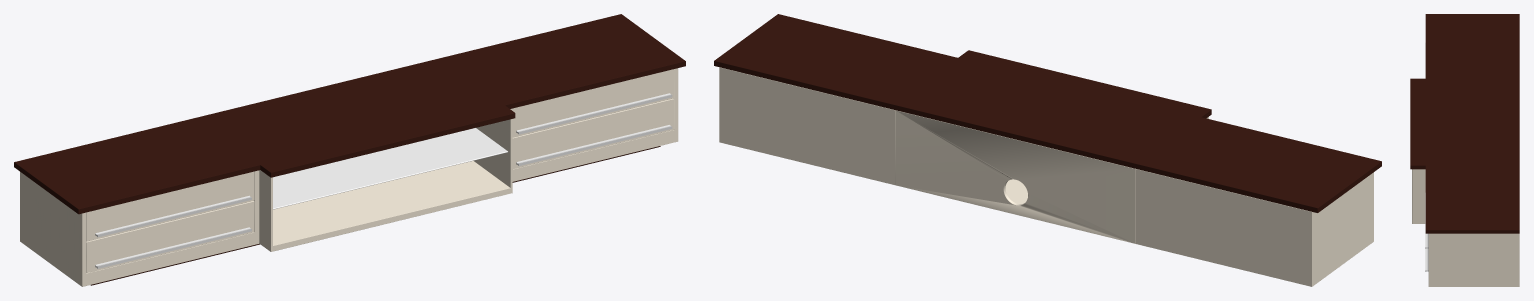
File: tvtbl.fbx
3 renders of one model, left to right at view 1: azimuth 30°, elevation 25°; view 2: azimuth 150°, elevation 25°; view 3: azimuth 270°, elevation 25°, orthographic. The views are drawn at different scales.
Visible parts, largest first — view 1: Top, MiddleBoard_1, LeftBoard, Glass, Drawer_Front_Bottom_2, Drawer_Front_Bottom, Drawer_Front_Top_2, Drawer_Front_Top, RightBoard, Hold_Bottom_2, Hold_Top, Hold_Top_2 (+2 smaller); view 2: Top, MiddleBoard_1, LeftBoard, RightBoard; view 3: Top, RightBoard, MiddleBoard_1, Hold_Top, Hold_Bottom.
Boxes of the visible parts, left/top/right/bottom form: Top: left=14, top=14, right=685, bottom=214; MiddleBoard_1: left=259, top=119, right=512, bottom=251; LeftBoard: left=20, top=170, right=259, bottom=286; Glass: left=273, top=128, right=507, bottom=209; Drawer_Front_Bottom_2: left=86, top=201, right=254, bottom=273; Drawer_Front_Bottom: left=512, top=98, right=674, bottom=168; Drawer_Front_Top_2: left=86, top=171, right=254, bottom=241; Drawer_Front_Top: left=510, top=69, right=674, bottom=137; RightBoard: left=512, top=68, right=678, bottom=181; Hold_Bottom_2: left=95, top=227, right=251, bottom=268; Hold_Top: left=516, top=93, right=672, bottom=134; Hold_Top_2: left=95, top=195, right=251, bottom=237; Top: left=714, top=14, right=1381, bottom=212; MiddleBoard_1: left=895, top=110, right=1208, bottom=243; LeftBoard: left=1136, top=169, right=1373, bottom=286; RightBoard: left=719, top=67, right=895, bottom=185; Top: left=1410, top=14, right=1519, bottom=233; RightBoard: left=1428, top=233, right=1519, bottom=286; MiddleBoard_1: left=1412, top=169, right=1425, bottom=223; Hold_Top: left=1425, top=193, right=1428, bottom=248; Hold_Bottom: left=1425, top=248, right=1428, bottom=271.
Bounding box in the file's own units: 565 × 76.16 × 121.
